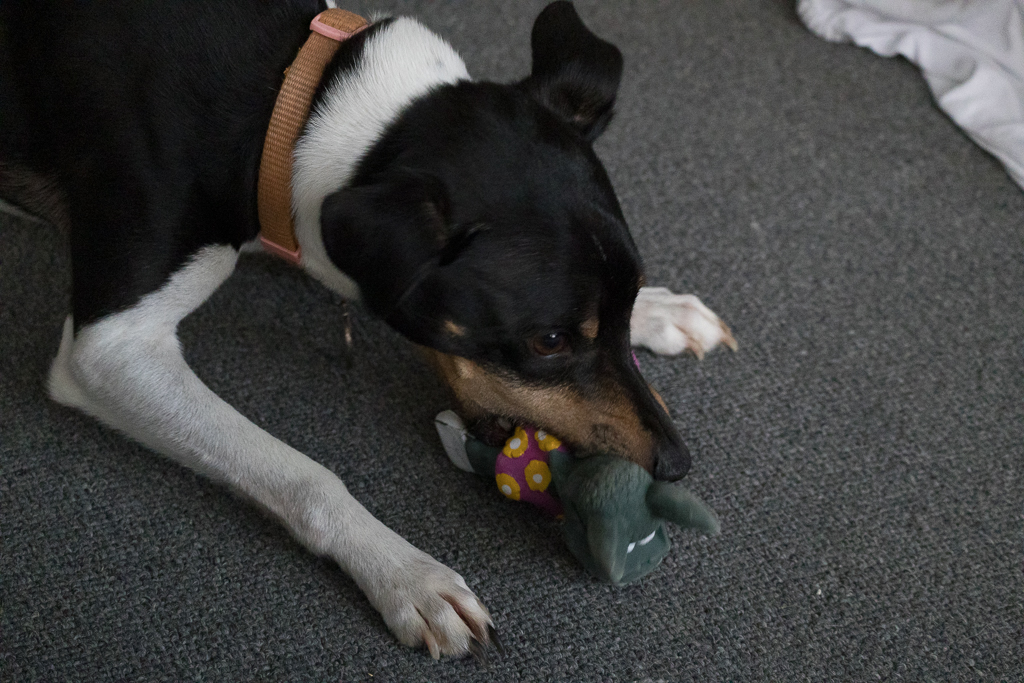Dog: (0, 0, 746, 664)
Humanoid: (430, 363, 729, 601)
